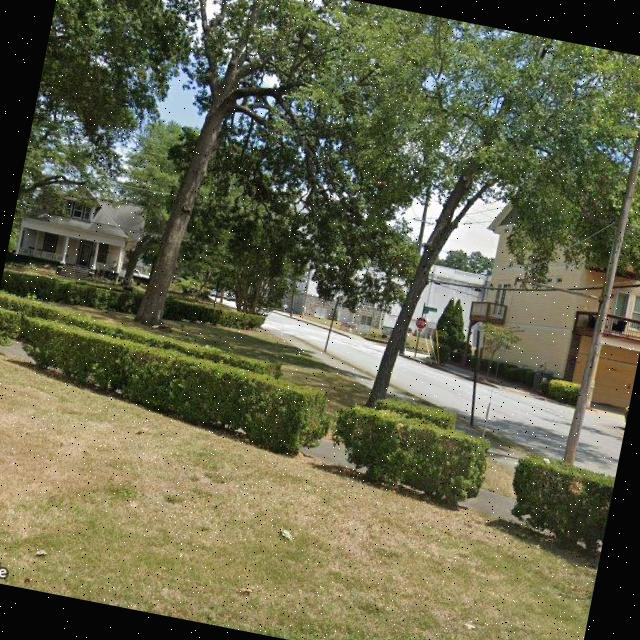seating: (71, 378, 325, 461)
shelter: (20, 234, 362, 522)
trash_can: (321, 448, 386, 530)
